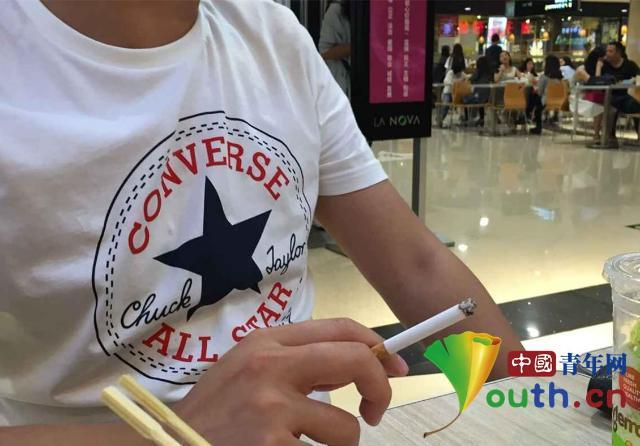Smoking: (372, 297, 476, 359)
